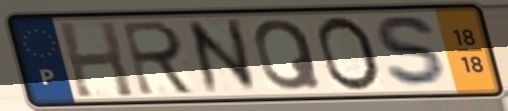H: (55, 19, 138, 100)
N: (181, 15, 264, 98)
O: (314, 13, 386, 93)
Q: (251, 17, 326, 93)
R: (119, 18, 201, 98)
S: (373, 13, 456, 92)
